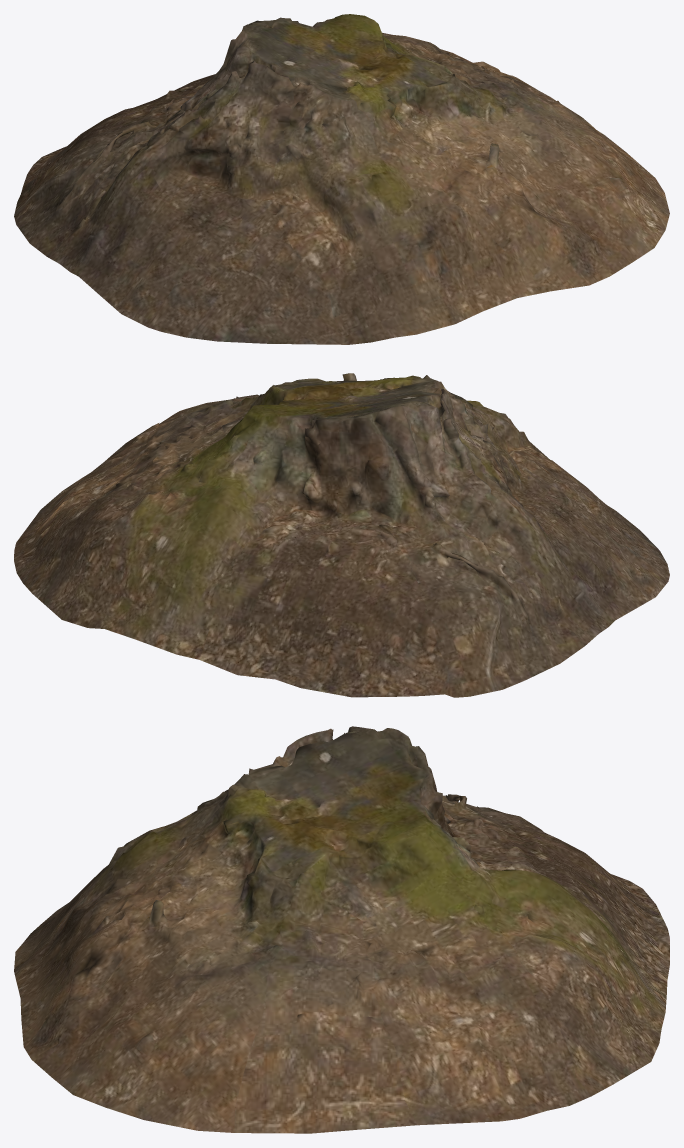
The model's file is tree_stump_02_wood.glb.
3 renders of one model, top to bottom at view 1: azimuth 30°, elevation 25°; view 2: azimuth 150°, elevation 25°; view 3: azimuth 270°, elevation 25°, orthographic. The views are drawn at different scales.
Visible parts, largest first — view 1: tree_stump_02; view 2: tree_stump_02; view 3: tree_stump_02.
Part boxes in pixels (bbox=[...]): tree_stump_02: bbox=[14, 14, 669, 344]; tree_stump_02: bbox=[14, 373, 669, 697]; tree_stump_02: bbox=[14, 726, 669, 1133].
Bounding box in the file's own units: 1.52 × 0.5215 × 1.39.
Materials: 1 (1 with a texture image).
